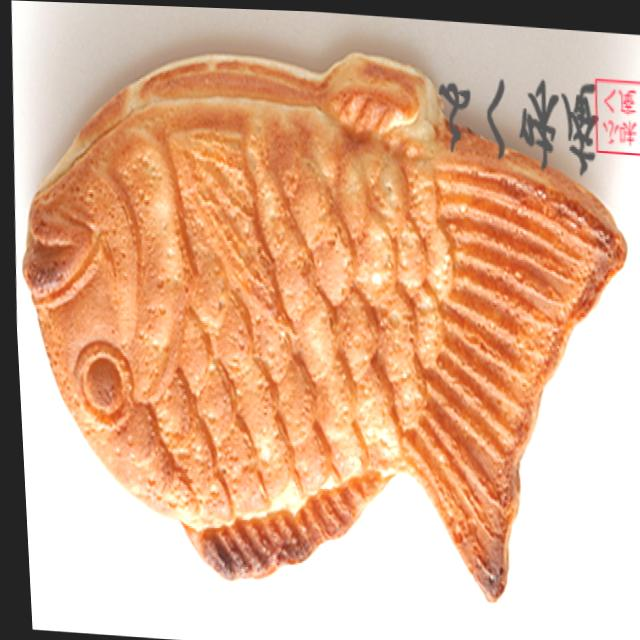熟制海鲜: (1, 26, 640, 611)
